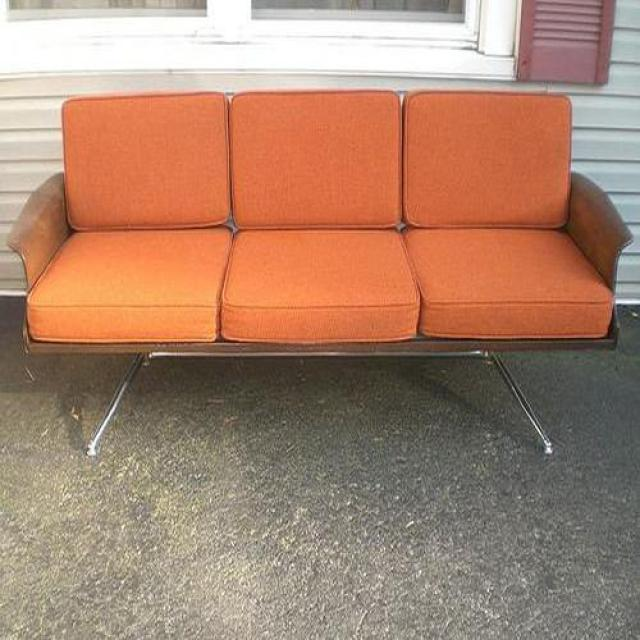sofa: (8, 91, 631, 458)
